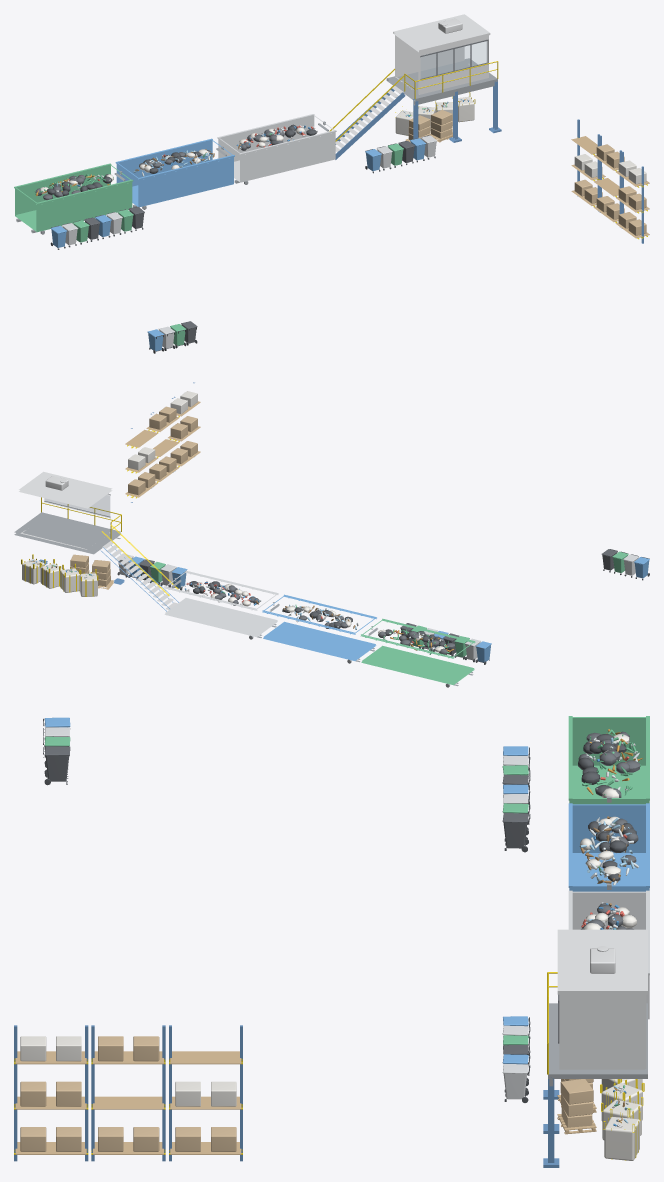
Rendered from patio.glb.
The picture shows the model from 3 angles, top to bottom: view 1: azimuth 30°, elevation 25°; view 2: azimuth 150°, elevation 25°; view 3: azimuth 270°, elevation 25°; orthographic projection. The views are drawn at different scales.
Parts seen in each view (by area): view 1: cont_azul, cont_gris, cont_verde, blanco, carton, bolsa_blanca, estructura, estructura_gris, cristal_ventana, madera, llanta, cont_negro (+3 smaller); view 2: cont_azul, cont_gris, cont_verde, bolsa_blanca, carton, estructura_gris, blanco, amarillo_seg, madera, llanta, acero, res_base (+2 smaller); view 3: blanco, carton, bolsa_blanca, cont_azul, cont_verde, madera, cont_gris, estructura, llanta, cont_negro, estructura_gris, res_base (+2 smaller).
Part boxes in pixels (x1,y1,x2,y2): cont_azul: (50,138,426,351); cont_gris: (62,114,436,348); cont_verde: (14,143,403,345); blanco: (393,14,490,94); carton: (408,110,646,235); bolsa_blanca: (40,96,646,193); estructura: (335,80,643,243); estructura_gris: (16,58,497,234); cristal_ventana: (421,41,486,78); madera: (405,132,649,238); llanta: (46,124,435,353); cont_negro: (84,141,415,342); cont_azul: (128,556,649,662); cont_gris: (118,554,638,659); cont_verde: (150,551,628,685); bolsa_blanca: (22,391,444,652); carton: (70,406,197,586); estructura_gris: (14,512,473,687); blanco: (19,471,112,549); amarillo_seg: (21,416,179,596); madera: (98,401,200,589); llanta: (117,549,649,664); acero: (45,476,177,609); res_base: (208,582,455,654); blanco: (557,929,647,1069); carton: (20,1036,593,1151); bolsa_blanca: (20,734,642,1160); cont_azul: (44,717,649,1064); cont_verde: (44,716,649,1045); madera: (15,1051,596,1154); cont_gris: (45,727,649,1099); estructura: (14,1025,559,1167); llanta: (43,718,636,1102); cont_negro: (44,746,528,1054); estructura_gris: (548,796,647,1086); res_base: (578,731,639,929).
Bounding box in the file's own units: 30.77 × 6.34 × 19.71.
